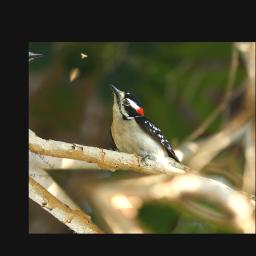Woodpecker: (80, 80, 226, 189)
